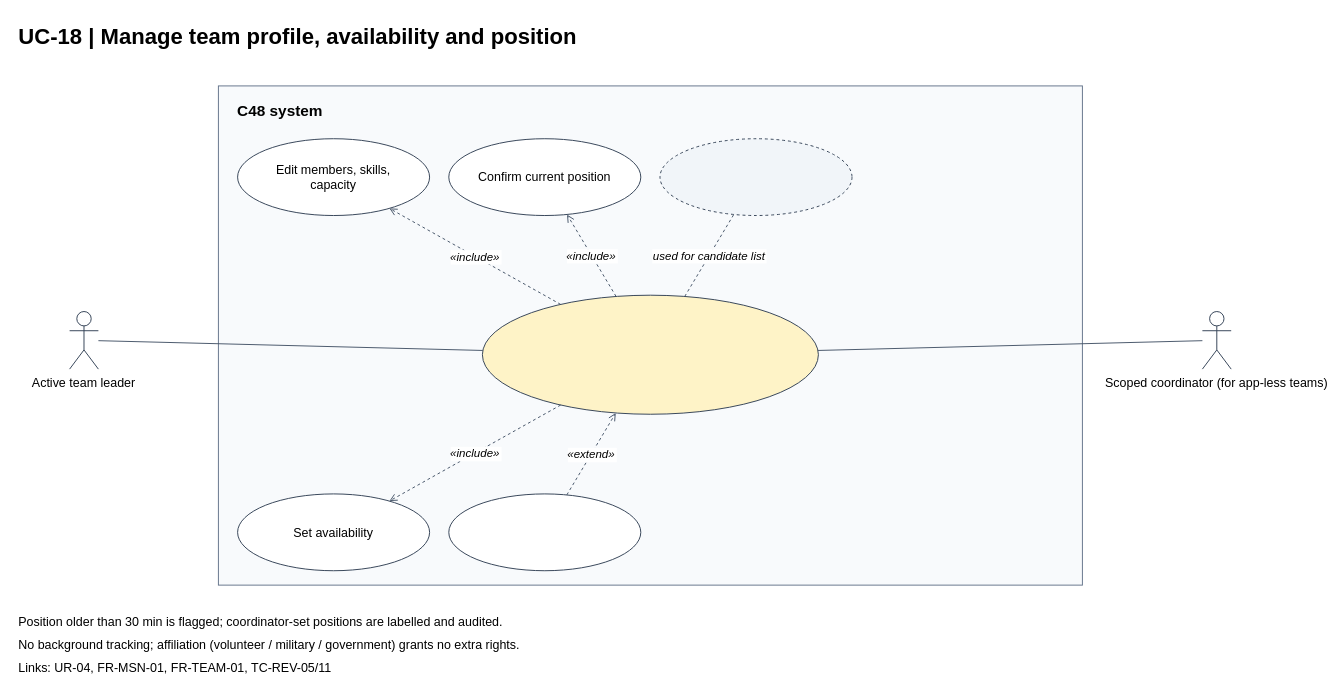
The diagram is 1344 pixels wide and 691 high, and some of its shapes have lost their labels. Here are the shapes that lost their labels. From the top down, the centre of each, then its label:
the point at 755,177: UC-03 Assign and accept mission
the point at 649,354: UC-18 Manage team profile, availability and position
the point at 544,532: Record position reported by radio / phone
